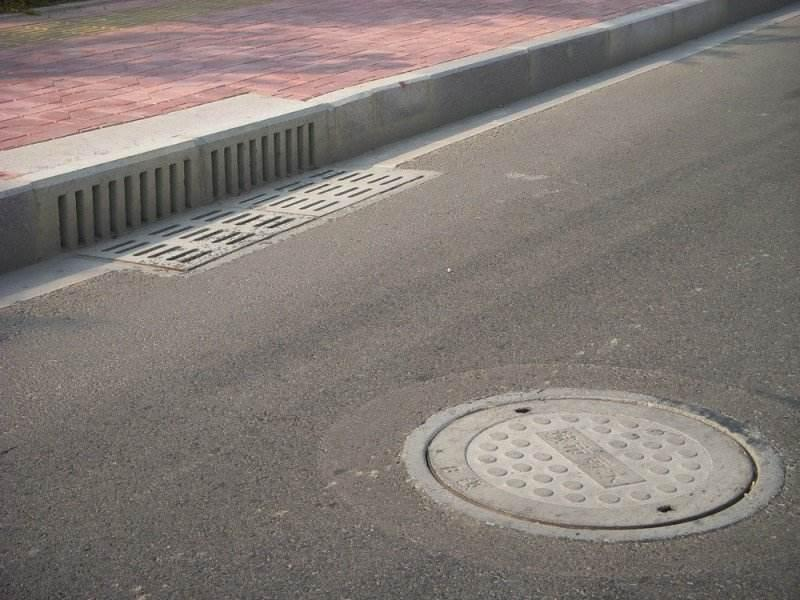wellcover: (396, 370, 784, 541), (47, 150, 475, 283)
